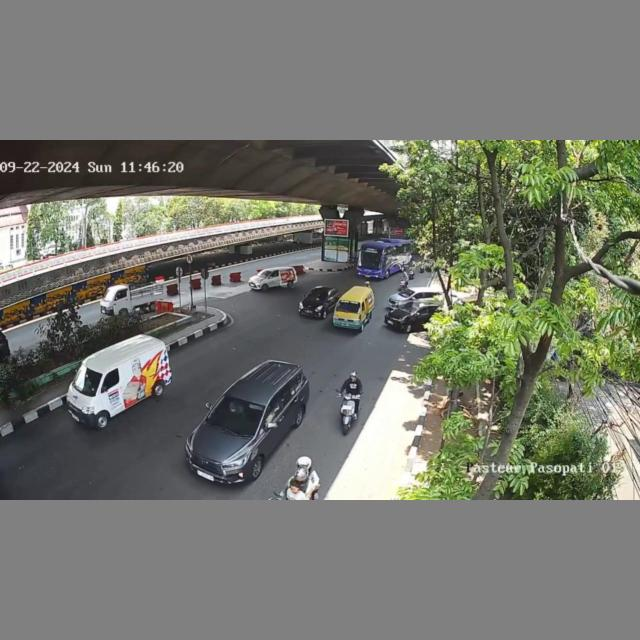windshield: (207, 396, 266, 439), (74, 364, 102, 394), (336, 299, 362, 314), (307, 291, 329, 301)
